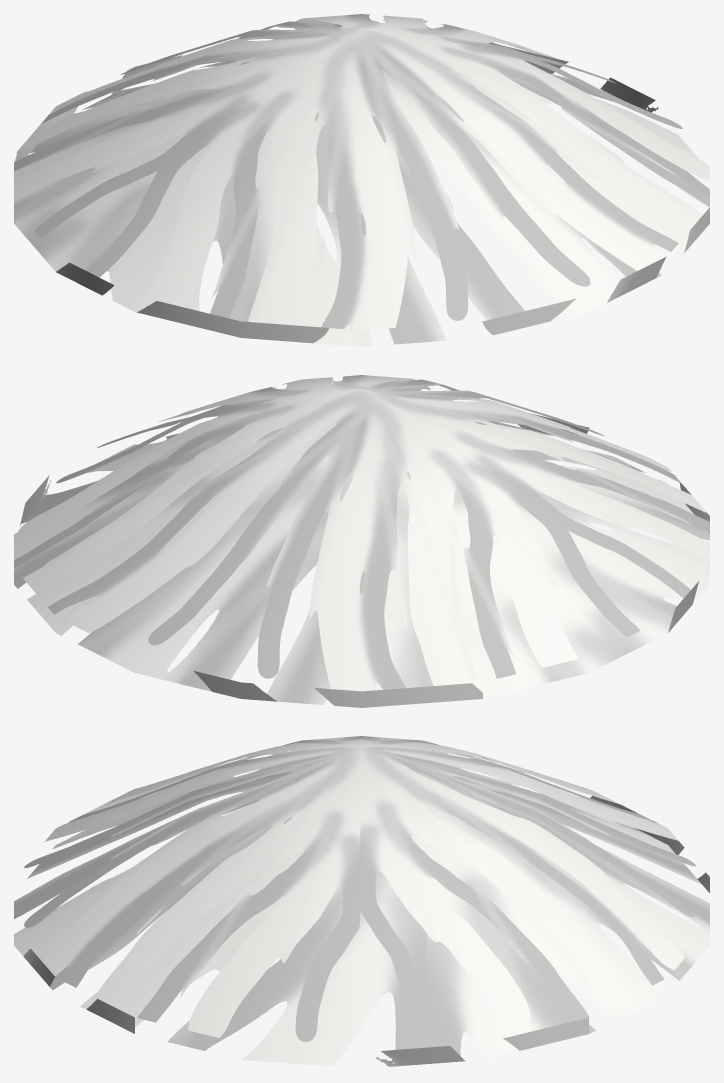
The model's file is Shield_Unity.FBX.
3 views of the same model, one above another, from view 1: azimuth 30°, elevation 25°; view 2: azimuth 150°, elevation 25°; view 3: azimuth 270°, elevation 25° (orthographic).
Visible parts, largest first — view 1: Cylinder001; view 2: Cylinder001; view 3: Cylinder001.
Boxes of the visible parts, box(x1,y1,x2,y2) form: Cylinder001: box(14, 14, 709, 346); Cylinder001: box(14, 375, 709, 707); Cylinder001: box(14, 736, 709, 1066).
Size of the model in its own units: 110 by 29.06 by 108.
1 material, 1 textured.
